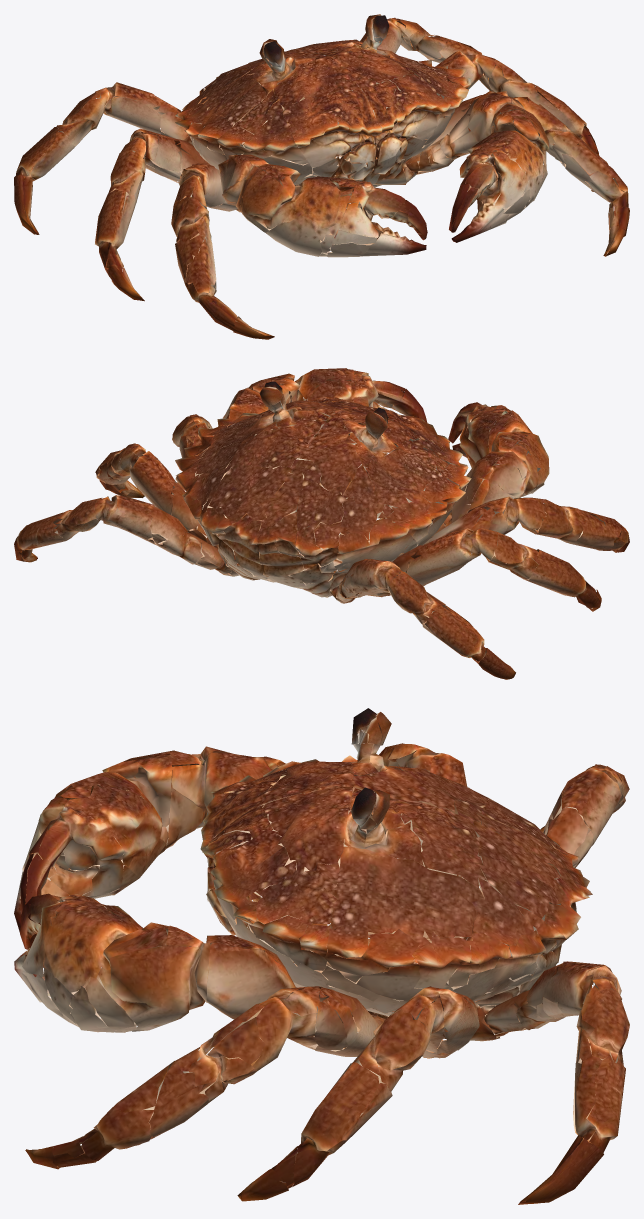
File: crab.glb
3 renders of one model, top to bottom at view 1: azimuth 30°, elevation 25°; view 2: azimuth 150°, elevation 25°; view 3: azimuth 270°, elevation 25°, orthographic. The views are drawn at different scales.
Visible parts, largest first — view 1: Mesh_0; view 2: Mesh_0; view 3: Mesh_0.
Boxes of the visible parts, box(x1,y1,x2,y2) form: Mesh_0: box(14, 14, 629, 339); Mesh_0: box(14, 368, 629, 679); Mesh_0: box(14, 708, 629, 1204).
Size of the model in its own units: 1.9 by 0.6971 by 1.37.
Materials: 1 (1 with a texture image).
